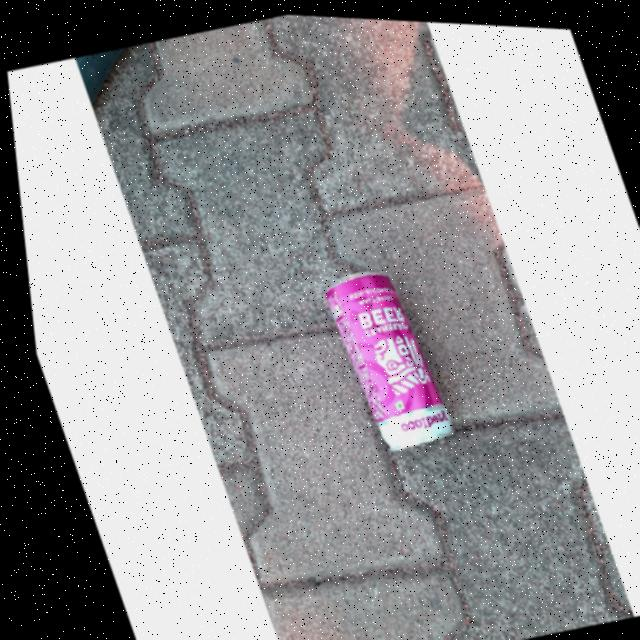Coolberg: (314, 262, 445, 452)
